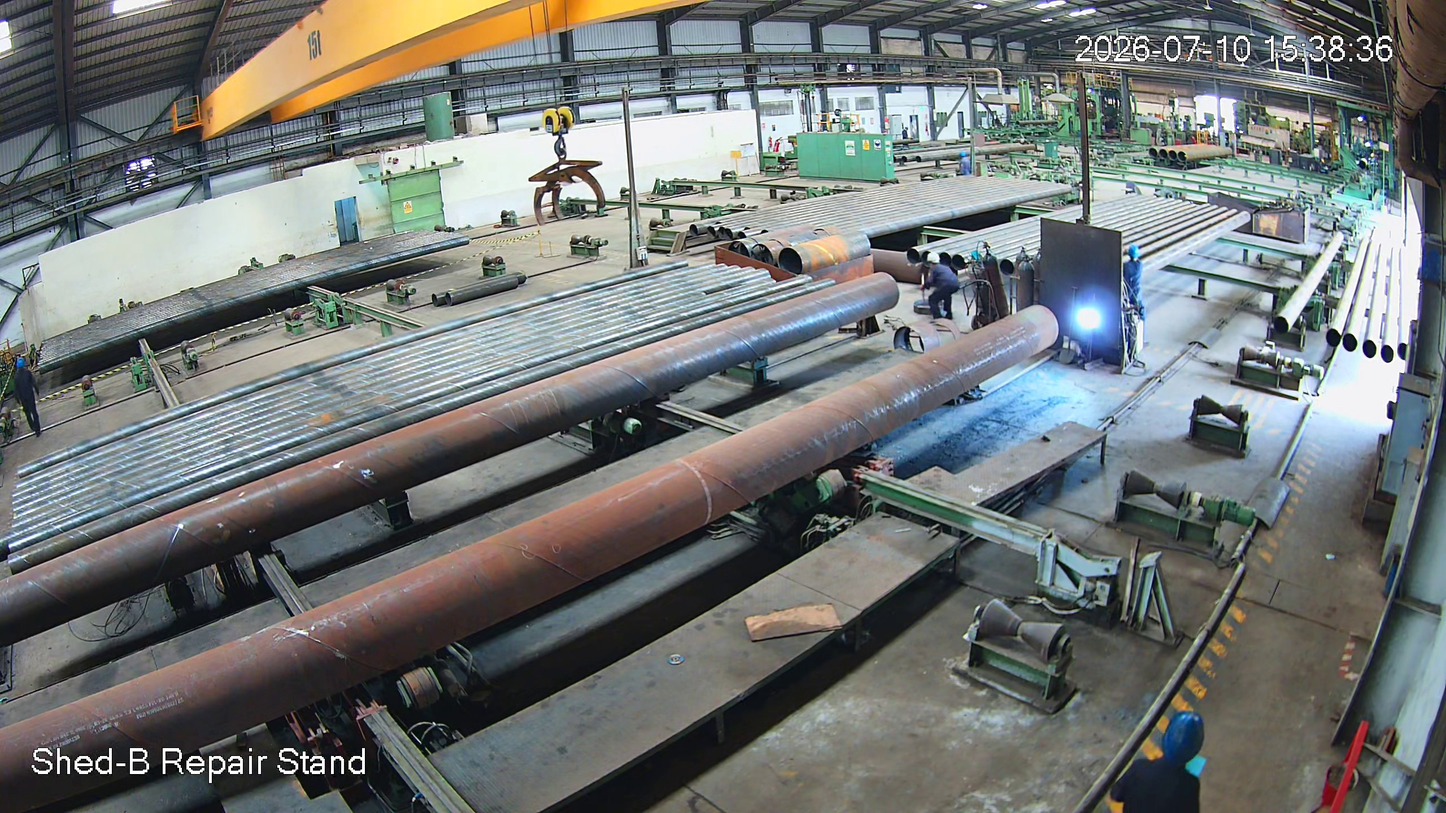Helmet: (1135, 687, 1216, 793), (924, 247, 944, 276), (1126, 240, 1143, 265)
Person: (1070, 700, 1264, 813), (917, 250, 955, 318), (1123, 243, 1146, 320)
